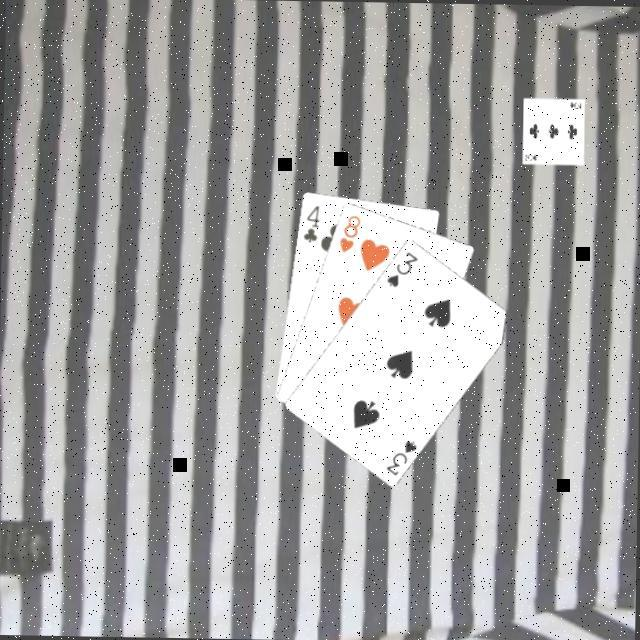3S: (385, 246, 423, 289), (384, 433, 421, 476)
4C: (301, 199, 324, 243)
8H: (337, 209, 365, 253)
